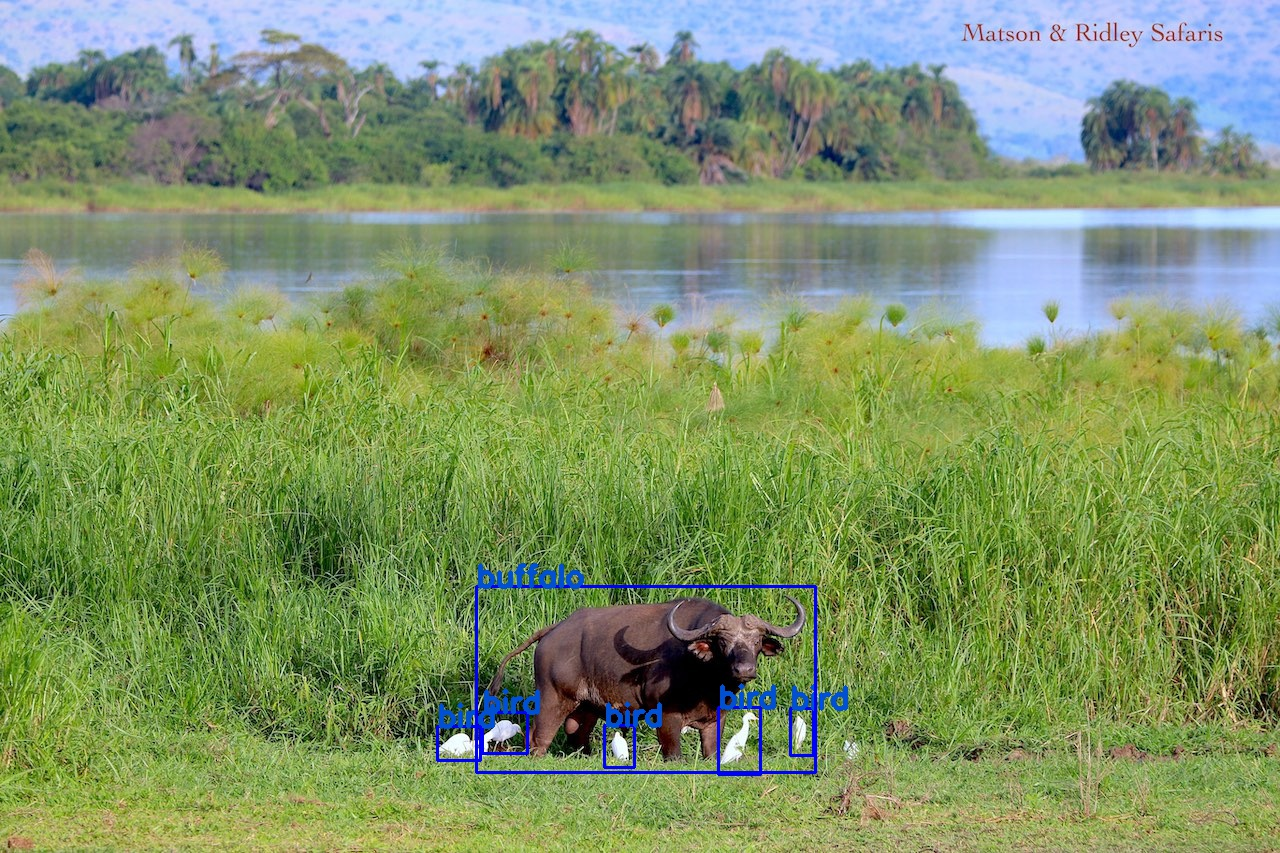bird: (718, 707, 760, 774), (482, 711, 527, 753), (436, 725, 480, 759), (604, 724, 634, 766), (789, 708, 813, 755)
buffalo: (476, 585, 815, 771)
